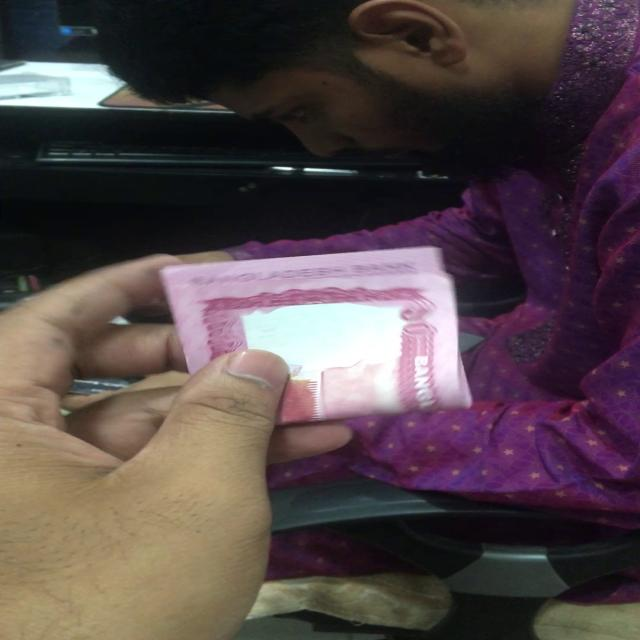Taka: (164, 254, 476, 419)
